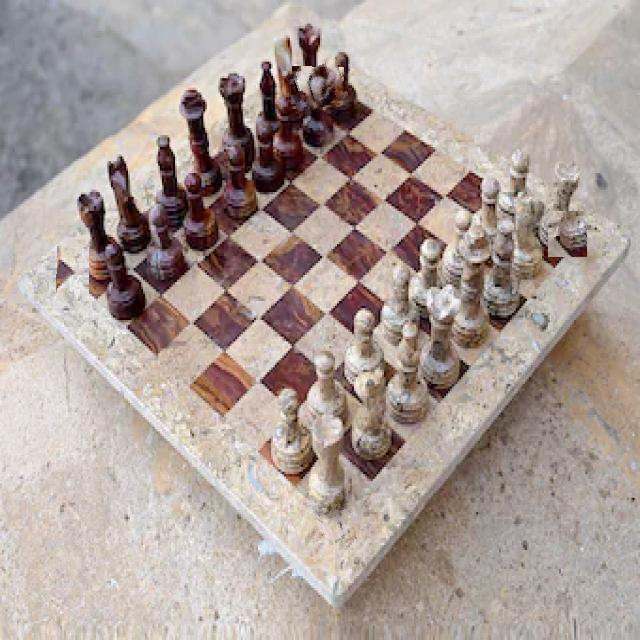chess-table-corners: (289, 62, 347, 110), (308, 495, 361, 539), (548, 211, 587, 257), (57, 247, 89, 301)
